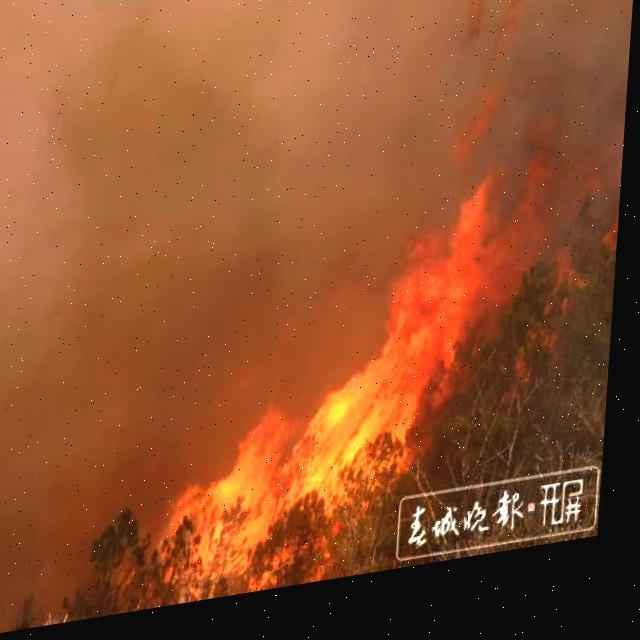Fire: (166, 230, 512, 604)
